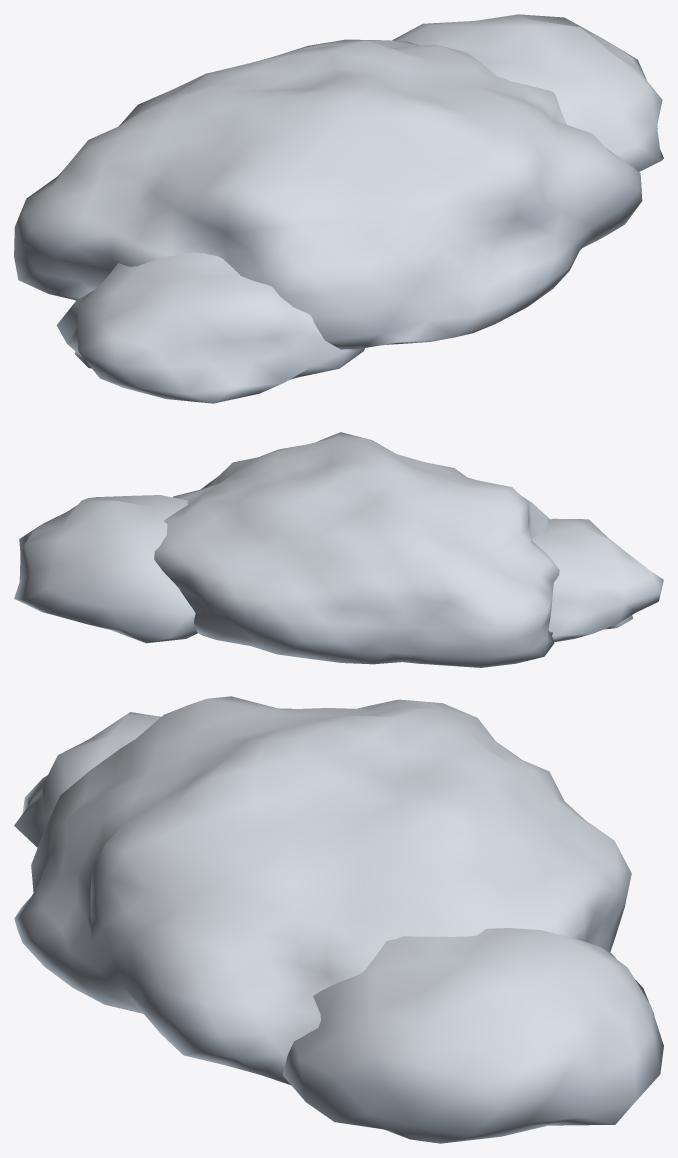
The model's file is snow_pile_a.glb.
The picture shows the model from 3 angles, top to bottom: view 1: azimuth 30°, elevation 25°; view 2: azimuth 150°, elevation 25°; view 3: azimuth 270°, elevation 25°; orthographic projection. The views are drawn at different scales.
Parts seen in each view (by area): view 1: p1; view 2: p1; view 3: p1.
Part boxes in pixels (x1,y1,x2,y2): p1: (14,14,663,403); p1: (14,432,663,667); p1: (14,696,663,1143).
Size of the model in its own units: 2.11 by 0.4878 by 1.44.
Materials: 1 (1 with a texture image).
